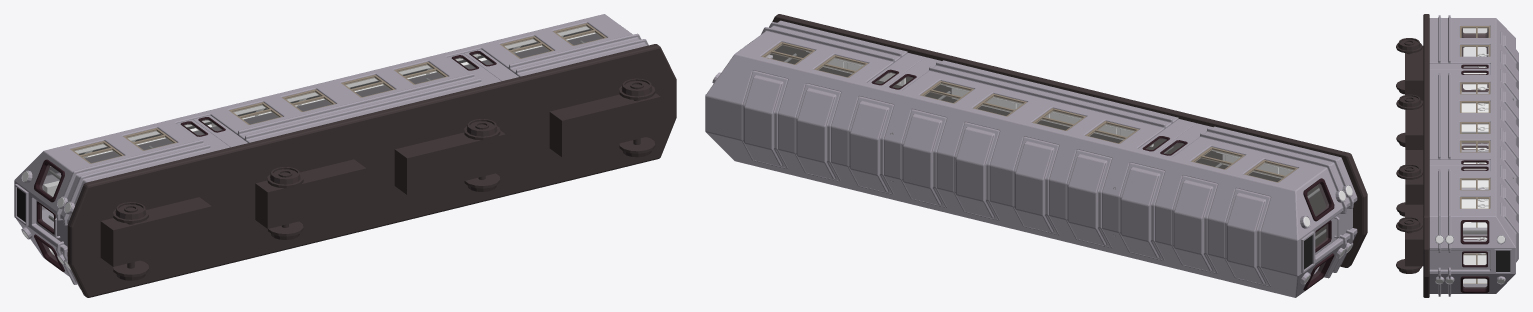
Rendered from Subway_Train_Front 2.fbx.
The picture shows the model from 3 angles, left to right: view 1: azimuth 30°, elevation 25°; view 2: azimuth 150°, elevation 25°; view 3: azimuth 270°, elevation 25°; orthographic projection. The views are drawn at different scales.
Visible parts, largest first — view 1: Subway_Train_Front; view 2: Subway_Train_Front; view 3: Subway_Train_Front.
Boxes of the visible parts, x1=… form: Subway_Train_Front: x1=14, y1=14, x2=676, y2=297; Subway_Train_Front: x1=705, y1=14, x2=1367, y2=297; Subway_Train_Front: x1=1396, y1=14, x2=1518, y2=297.
Size of the model in its own units: 1534 by 371 by 276.
